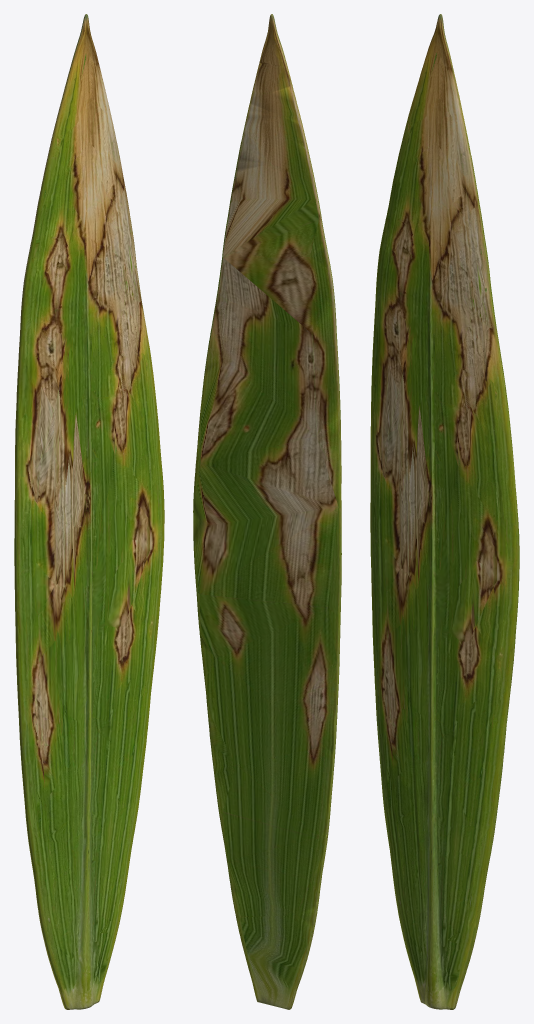
Rendered from rice_sheath_blight.glb.
3 renders of one model, left to right at view 1: azimuth 30°, elevation 25°; view 2: azimuth 150°, elevation 25°; view 3: azimuth 330°, elevation 25°, orthographic.
Parts seen in each view (by area): view 1: rice_sheath_blight; view 2: rice_sheath_blight; view 3: rice_sheath_blight.
Part boxes in pixels (x1,y1,x2,y2): rice_sheath_blight: (14, 14, 164, 1009); rice_sheath_blight: (193, 14, 341, 1009); rice_sheath_blight: (370, 14, 519, 1009).
Bounding box in the file's own units: 0.1568 × 1 × 0.0165.
1 material, 1 textured.
